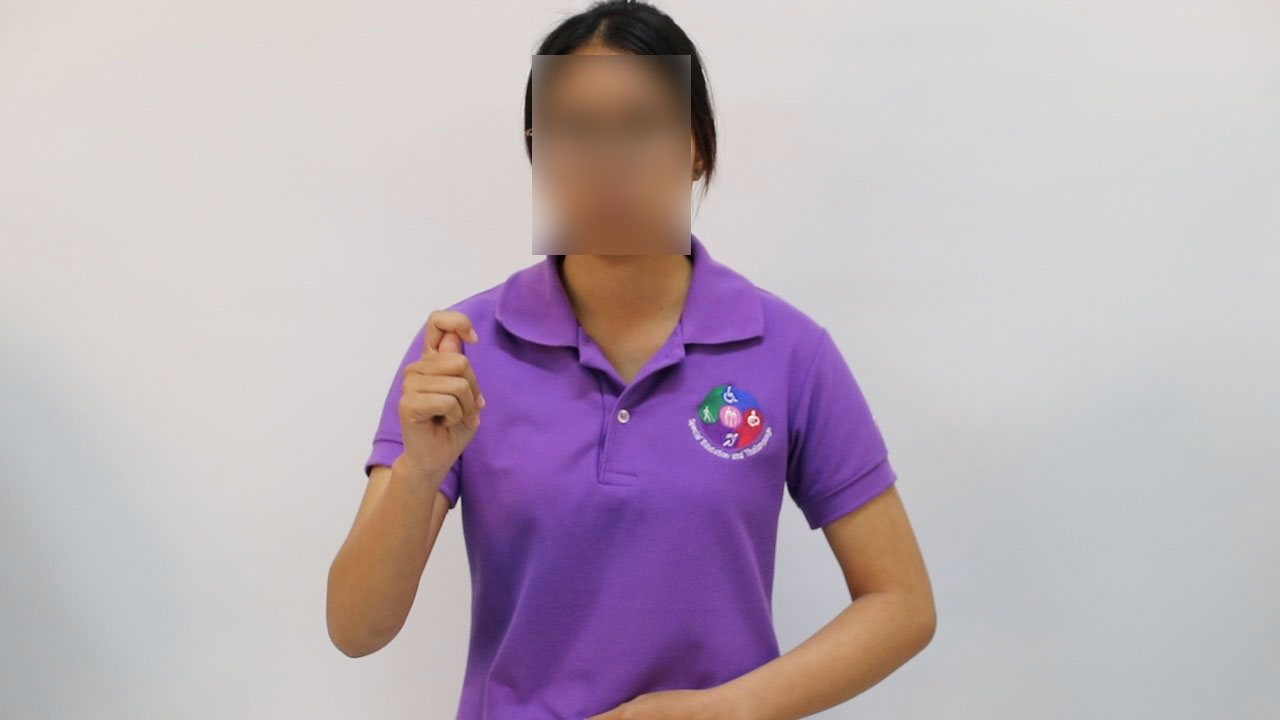or: (393, 306, 493, 480)
